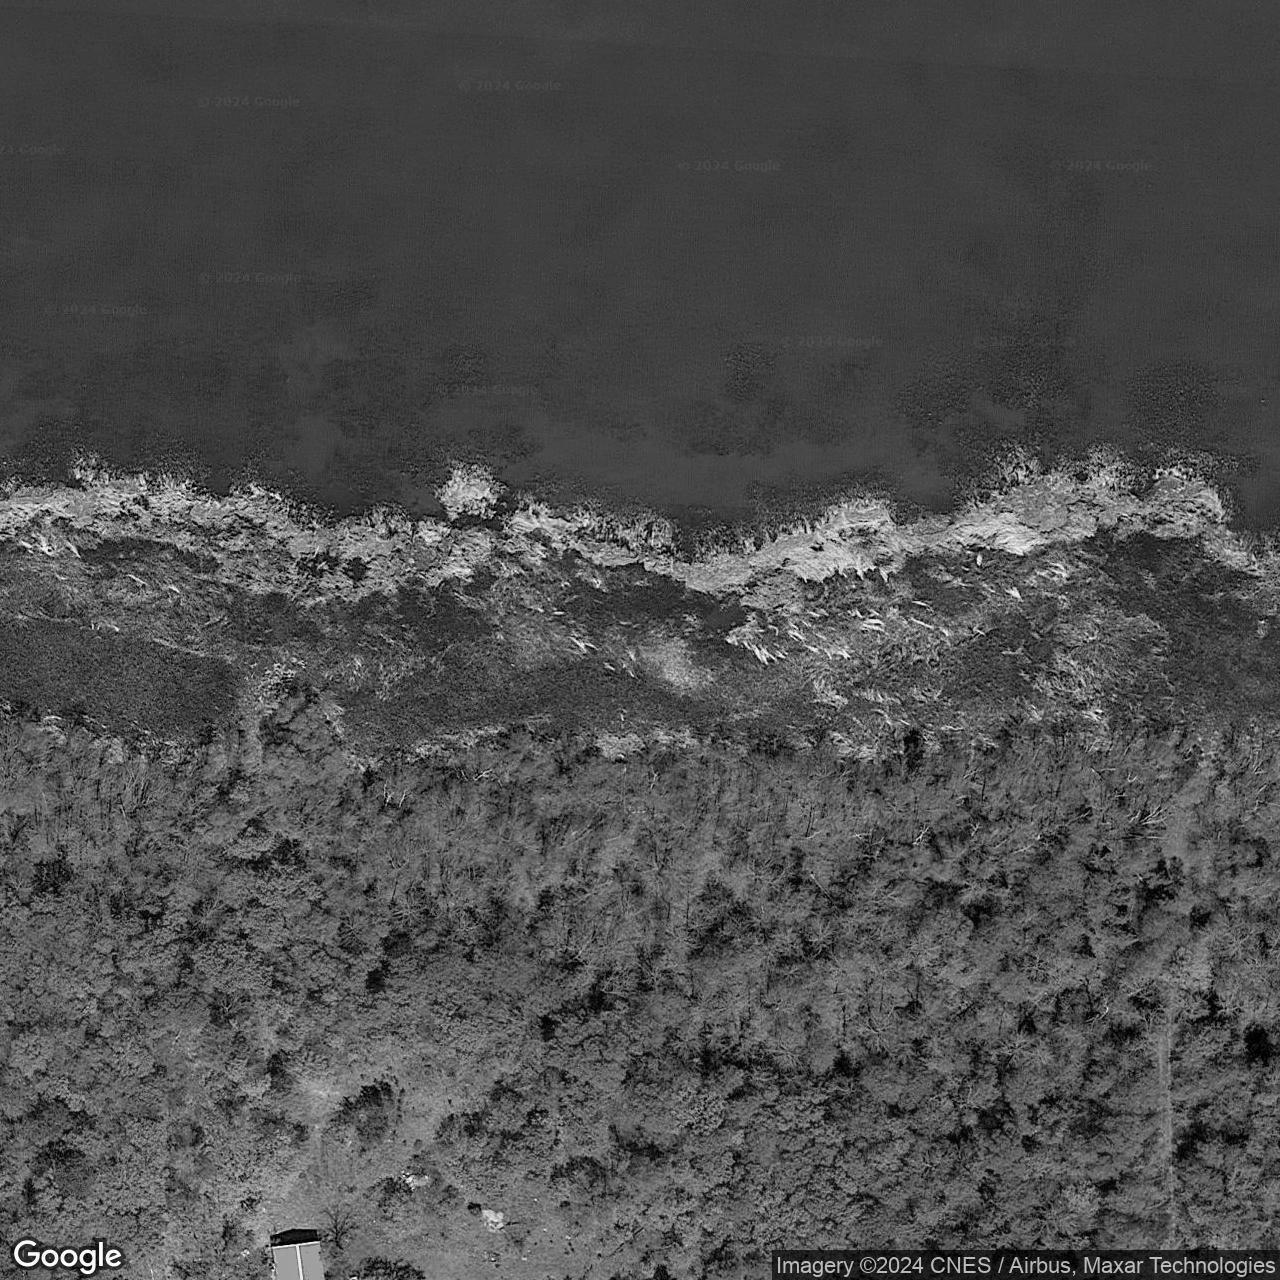House: (271, 1240, 326, 1280)
